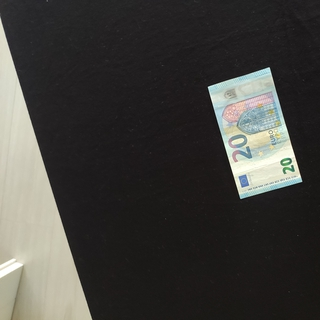20EUROFront: (207, 66, 302, 199)
